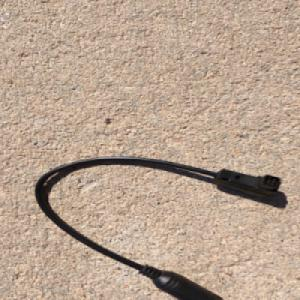Wire: (33, 151, 284, 300)
